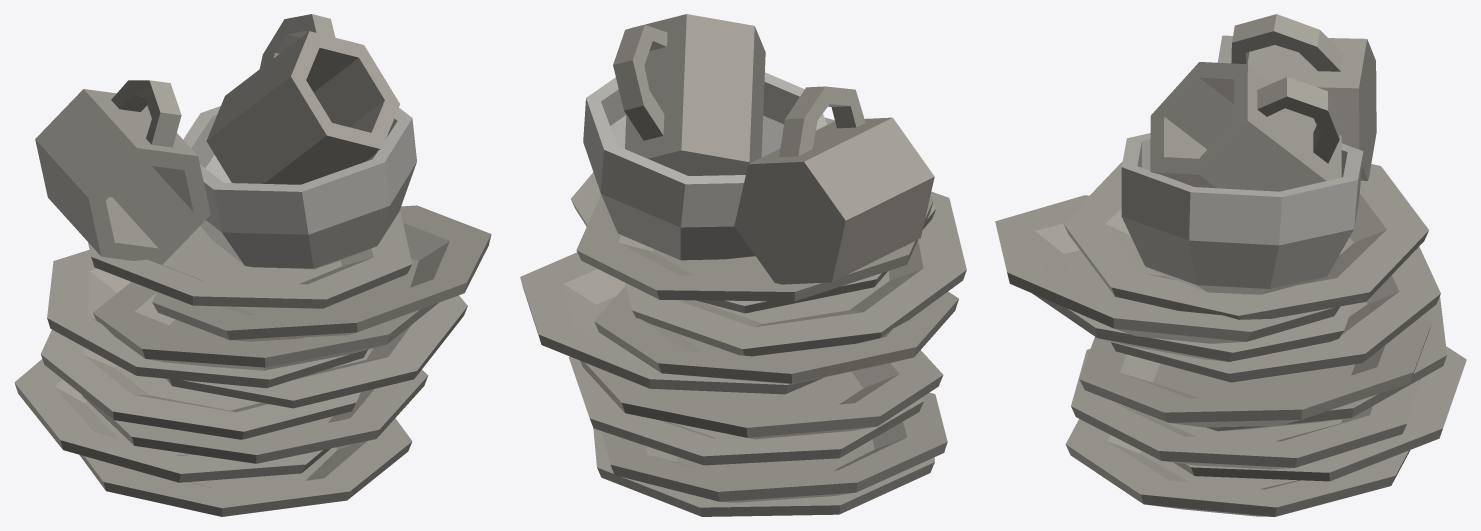
The model's file is kingdom_SM_Prop_Dishes_Stack_01.gltf.
The picture shows the model from 3 angles, left to right: view 1: azimuth 30°, elevation 25°; view 2: azimuth 150°, elevation 25°; view 3: azimuth 270°, elevation 25°; orthographic projection. The views are drawn at different scales.
Parts seen in each view (by area): view 1: SM_Prop_Dishes_Stack_01; view 2: SM_Prop_Dishes_Stack_01; view 3: SM_Prop_Dishes_Stack_01.
Part boxes in pixels (x1,y1,x2,y2): SM_Prop_Dishes_Stack_01: (14,14,491,516); SM_Prop_Dishes_Stack_01: (520,14,966,516); SM_Prop_Dishes_Stack_01: (995,14,1466,516).
Bounding box in the file's own units: 0.4397 × 0.4566 × 0.4484.
Materials: 1 (1 with a texture image).
